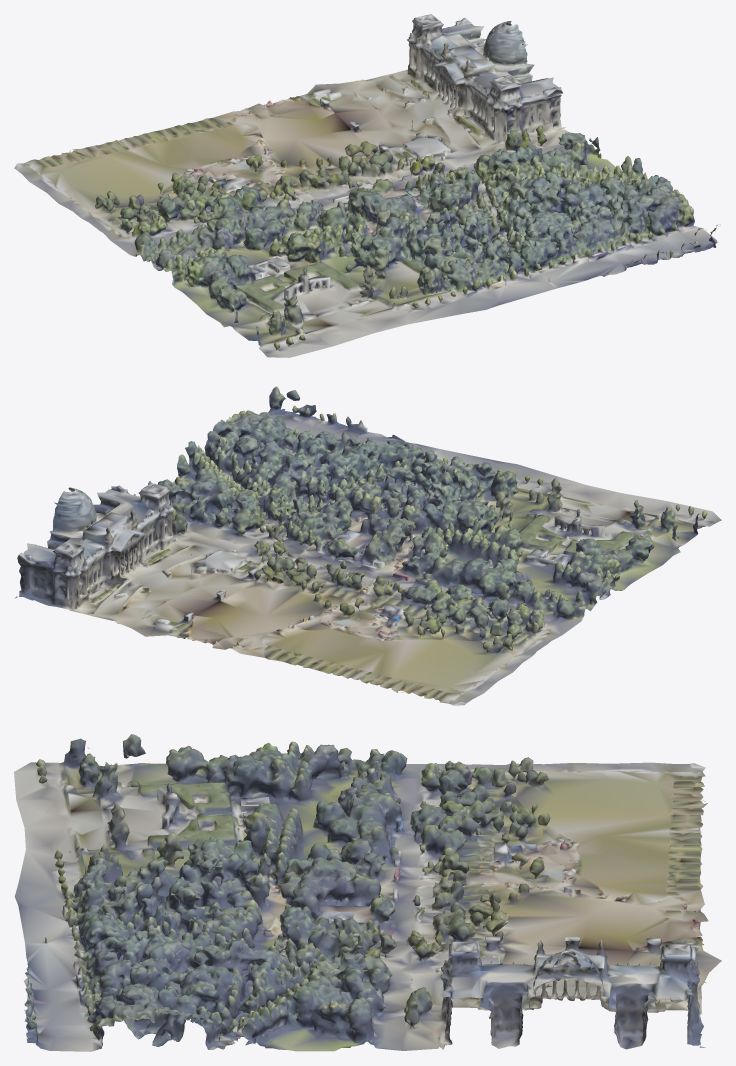
The model's file is tile-3894_58196.glb.
The picture shows the model from 3 angles, top to bottom: view 1: azimuth 30°, elevation 25°; view 2: azimuth 150°, elevation 25°; view 3: azimuth 270°, elevation 25°; orthographic projection. The views are drawn at different scales.
Parts seen in each view (by area): view 1: world; view 2: world; view 3: world.
Boxes of the visible parts, bbox=[...] form: world: bbox=[14, 14, 720, 357]; world: bbox=[14, 386, 721, 705]; world: bbox=[14, 734, 721, 1051].
Bounding box in the file's own units: 370 × 57.29 × 379.
